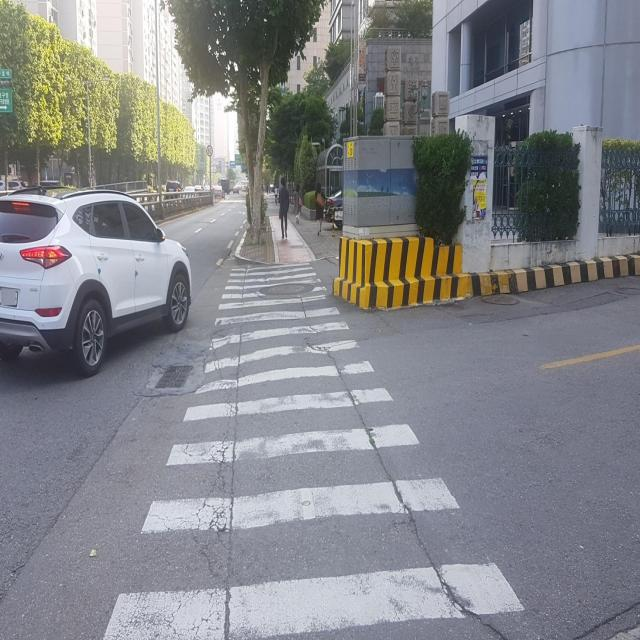횡단보도: (100, 254, 527, 637)
